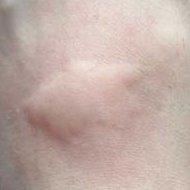Mosquito: (20, 29, 141, 156)
